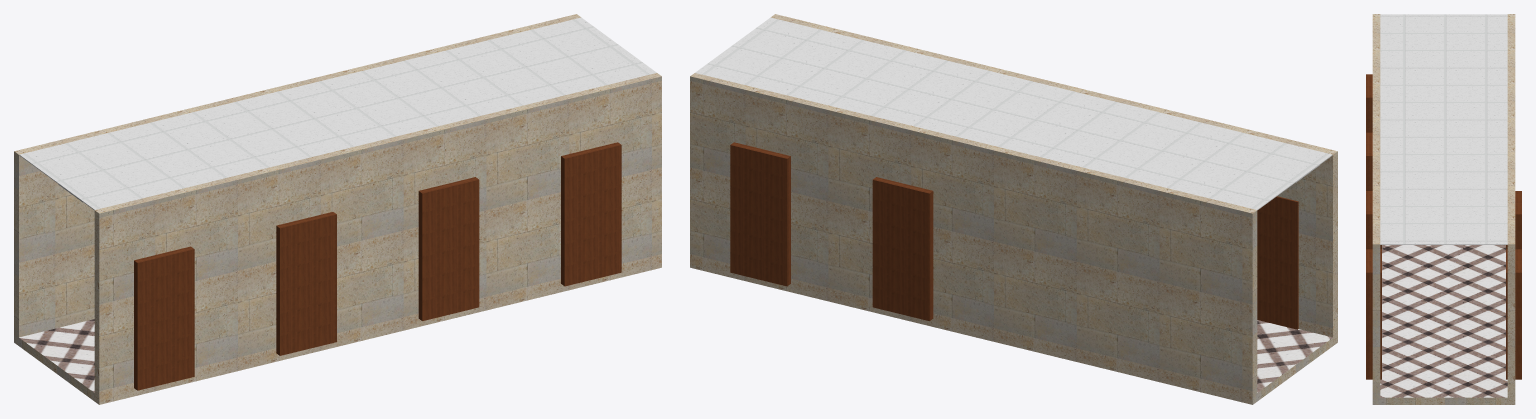
Rendered from hallway_v3_texture.fbx.
3 views of the same model, side by side, from view 1: azimuth 30°, elevation 25°; view 2: azimuth 150°, elevation 25°; view 3: azimuth 270°, elevation 25° (orthographic). The views are drawn at different scales.
Visible parts, largest first — view 1: hallway.028, roof_hallway.028, door_elevator.116; view 2: hallway.028, roof_hallway.028, door_elevator.113, door_elevator.116; view 3: roof_hallway.028, hallway.028, door_elevator.116, door_elevator.113.
Part boxes in pixels (x1,y1,x2,y2): hallway.028: [14, 14, 661, 404]; roof_hallway.028: [19, 17, 656, 210]; door_elevator.116: [134, 142, 621, 390]; hallway.028: [690, 14, 1337, 404]; roof_hallway.028: [695, 17, 1332, 210]; door_elevator.113: [730, 142, 933, 320]; door_elevator.116: [1257, 196, 1298, 329]; roof_hallway.028: [1380, 14, 1507, 244]; hallway.028: [1372, 14, 1515, 404]; door_elevator.116: [1366, 74, 1381, 379]; door_elevator.113: [1506, 191, 1521, 379].
Bounding box in the file's own units: 343 × 111 × 97.86.
